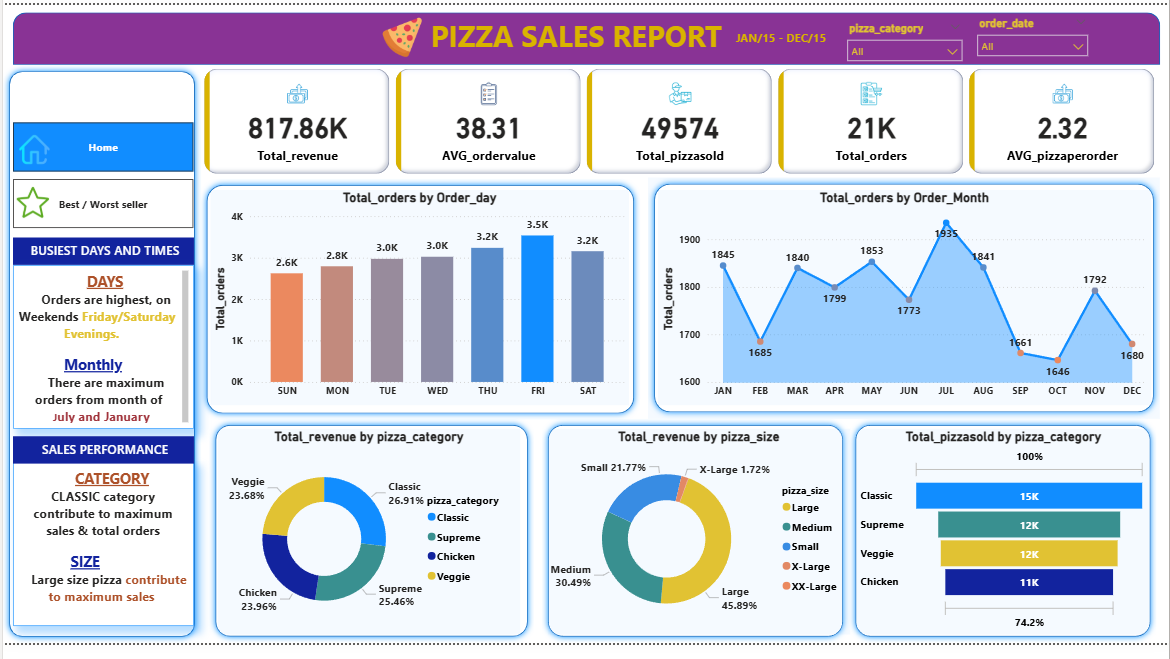

This screenshot's page, from the dashboard's own definition file:
{"tool":"powerbi","page":{"name":"Home","canvas":[1500,820],"ordinal":0},"visuals":[{"type":"cardVisual","fields":{"Data":["AMeasures.Total_revenue","AMeasures.AVG_ordervalue","AMeasures.Total_pizzasold","AMeasures.Total_orders","AMeasures.AVG_pizzaperorder"]},"box":[254.3,77.1,1234.3,145.7],"z":0},{"type":"shape","box":[12.9,10,1475.7,67.1],"z":1000},{"type":"textbox","box":[545.7,10,410,67.1],"z":2000},{"type":"textbox","box":[937.1,27.1,134.3,32.9],"z":3000},{"type":"image","box":[482.9,4.3,62.9,72.9],"z":4000},{"type":"shape","box":[254.3,222.9,565.7,310],"z":5000},{"type":"columnChart","fields":{"Category":["pizza_sales.Order_day"],"Y":["AMeasures.Total_orders"]},"box":[267.1,238.6,538.6,277.1],"z":6000},{"type":"shape","box":[830,221.4,658.6,310],"z":7000},{"type":"areaChart","fields":{"Category":["pizza_sales.Order_Month"],"Y":["AMeasures.Total_orders"]},"box":[842.9,238.6,634.3,277.1],"z":8000},{"type":"shape","box":[264.6,532,417.8,288.3],"z":9000},{"type":"donutChart","fields":{"Category":["pizza_sales.pizza_category"],"Y":["AMeasures.Total_revenue"]},"box":[277.1,544.5,388.6,264.6],"z":10000},{"type":"shape","box":[693.5,532,395.5,288.3],"z":11000},{"type":"donutChart","fields":{"Y":["AMeasures.Total_revenue"],"Category":["pizza_sales.pizza_size"]},"box":[700.5,544.5,388.6,264.6],"z":12000},{"type":"shape","box":[1089.1,532,395.5,288.3],"z":13000},{"type":"shape","box":[0,76.6,254.9,743.7],"z":14000},{"type":"funnel","fields":{"Category":["pizza_sales.pizza_category"],"Y":["AMeasures.Total_pizzasold"]},"box":[1098.8,544.5,377.4,264.6],"z":15000},{"type":"textbox","box":[12.5,299.4,232.6,34.8],"z":16000},{"type":"textbox","box":[12.5,334.2,232.6,210.3],"z":17000},{"type":"textbox","box":[12.5,589.1,232.6,210.3],"z":18000},{"type":"textbox","box":[12.5,554.3,232.6,34.8],"z":19000},{"type":"slicer","fields":{"Values":["pizza_sales.pizza_category"]},"box":[1075.1,15.3,168.5,55.7],"z":20000},{"type":"slicer","fields":{"Values":["pizza_sales.order_date"]},"box":[1243.7,9.7,162.9,66.8],"z":21000},{"type":"pageNavigator","box":[12.5,150.4,232.6,137.9],"z":22000},{"type":"image","box":[12.5,222.8,51.5,61.3],"z":23000},{"type":"image","box":[15.3,150.4,48.7,69.6],"z":24000}]}

Visuals, with their boxes in screenshot pixels (x1, y1, x2, y2), scaled from the page's 1500x820 canvas onto the 1170x659 screenshot:
cardVisual - AMeasures.Total_revenue x AMeasures.AVG_ordervalue: 198 62 1161 179
shape: 10 8 1161 62
textbox: 426 8 745 62
textbox: 731 22 836 48
image: 377 3 426 62
shape: 198 179 640 428
columnChart - pizza_sales.Order_day x AMeasures.Total_orders: 208 192 628 414
shape: 647 178 1161 427
areaChart - pizza_sales.Order_Month x AMeasures.Total_orders: 657 192 1152 414
shape: 206 428 532 658
donutChart - pizza_sales.pizza_category x AMeasures.Total_revenue: 216 438 519 650
shape: 541 428 849 658
donutChart - AMeasures.Total_revenue x pizza_sales.pizza_size: 546 438 849 650
shape: 849 428 1158 658
shape: 0 62 199 658
funnel - pizza_sales.pizza_category x AMeasures.Total_pizzasold: 857 438 1151 650
textbox: 10 241 191 269
textbox: 10 269 191 438
textbox: 10 473 191 642
textbox: 10 445 191 473
slicer - pizza_sales.pizza_category: 839 12 970 57
slicer - pizza_sales.order_date: 970 8 1097 61
pageNavigator: 10 121 191 232
image: 10 179 50 228
image: 12 121 50 177
